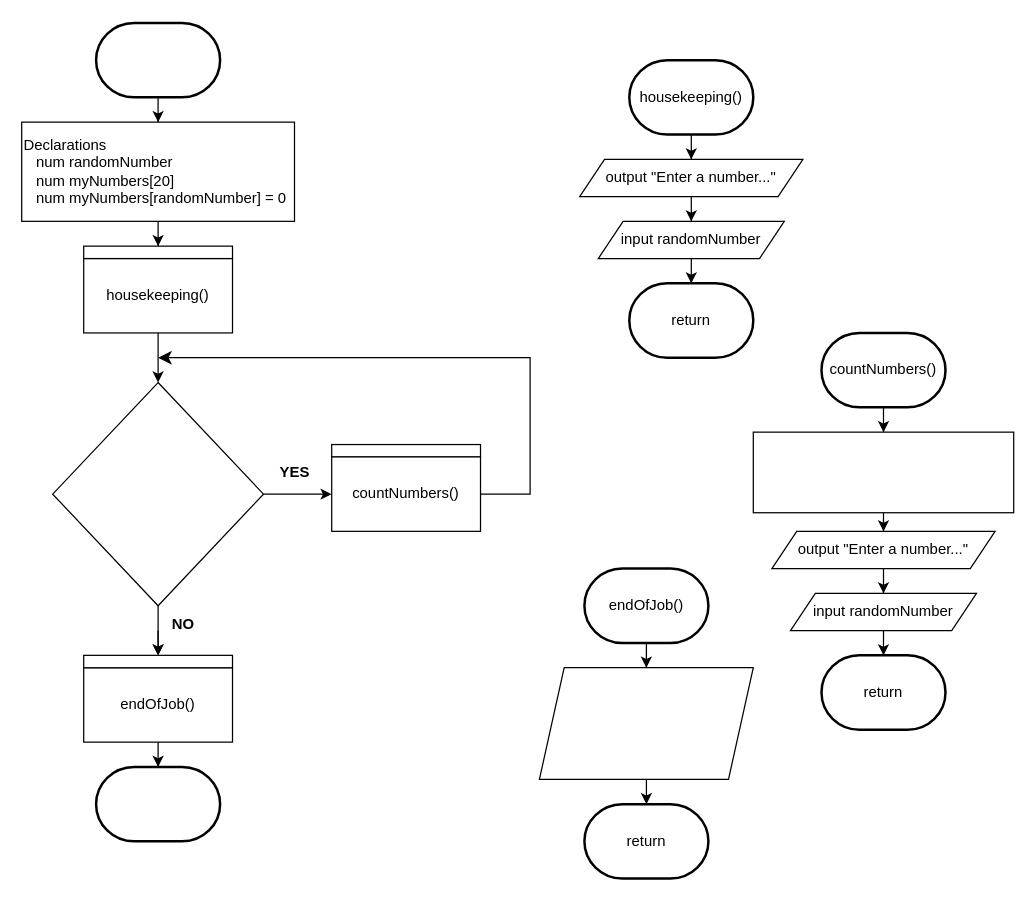
This 1035x900 diagram has some shape labels left out. Each missing label, with the centre of its shape:
"myNumber[randomNumber] <> 0?" goes at (157,493).
"myNumbers[randomNumber] = myNumbers[randomNumber] + 1" goes at (883,472).
"output myNumbers[19], myNumbers[18], myNumbers[...], myNumbers[1], myNumbers[0]" goes at (645,722).
"start" goes at (157,59).
"stop" goes at (157,803).
